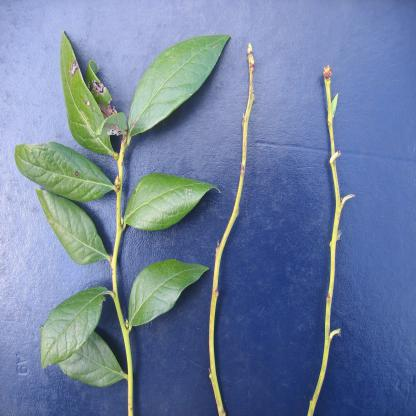blueberry leaf: (124, 30, 238, 151), (122, 163, 226, 256), (35, 173, 109, 285), (118, 258, 215, 332), (19, 130, 112, 204), (37, 284, 112, 373), (60, 312, 131, 398)
